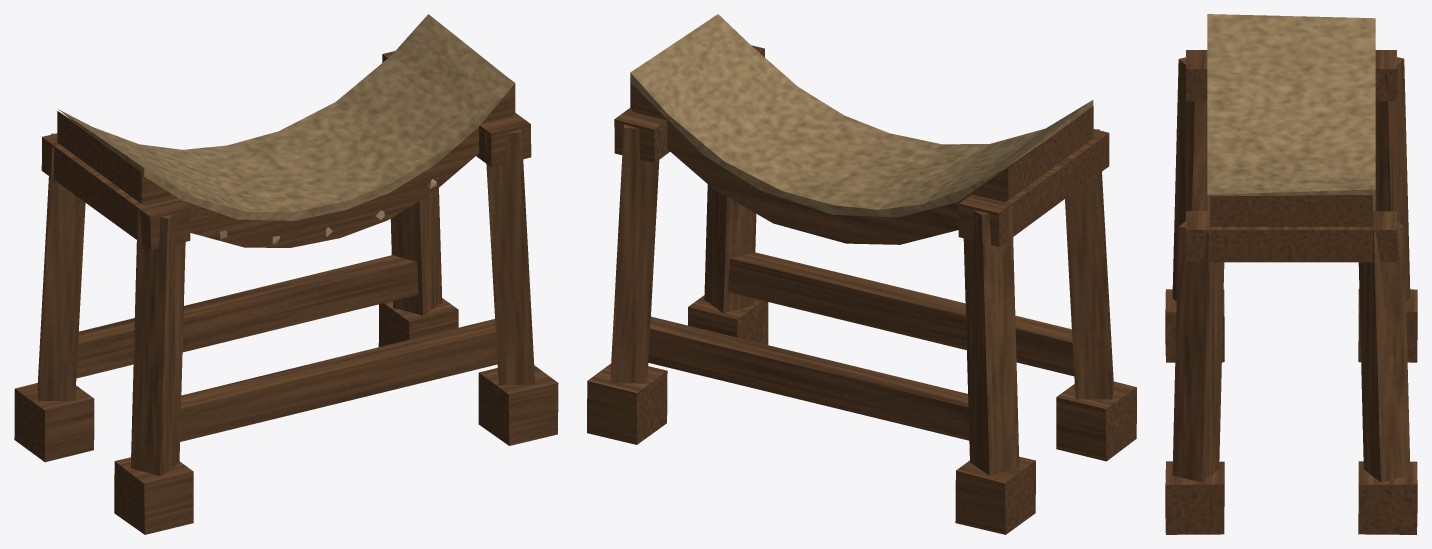
Rendered from AssemblySaddle_LOD2.fbx.
The picture shows the model from 3 angles, left to right: view 1: azimuth 30°, elevation 25°; view 2: azimuth 150°, elevation 25°; view 3: azimuth 270°, elevation 25°; orthographic projection. The views are drawn at different scales.
Visible parts, largest first — view 1: AssemblySaddle.001; view 2: AssemblySaddle.001; view 3: AssemblySaddle.001.
Part boxes in pixels (bbox=[...]): AssemblySaddle.001: bbox=[14, 14, 558, 534]; AssemblySaddle.001: bbox=[587, 14, 1136, 534]; AssemblySaddle.001: bbox=[1165, 14, 1417, 534].
Size of the model in its own units: 0.793 by 0.6337 by 0.4319.
1 material, 1 textured.
